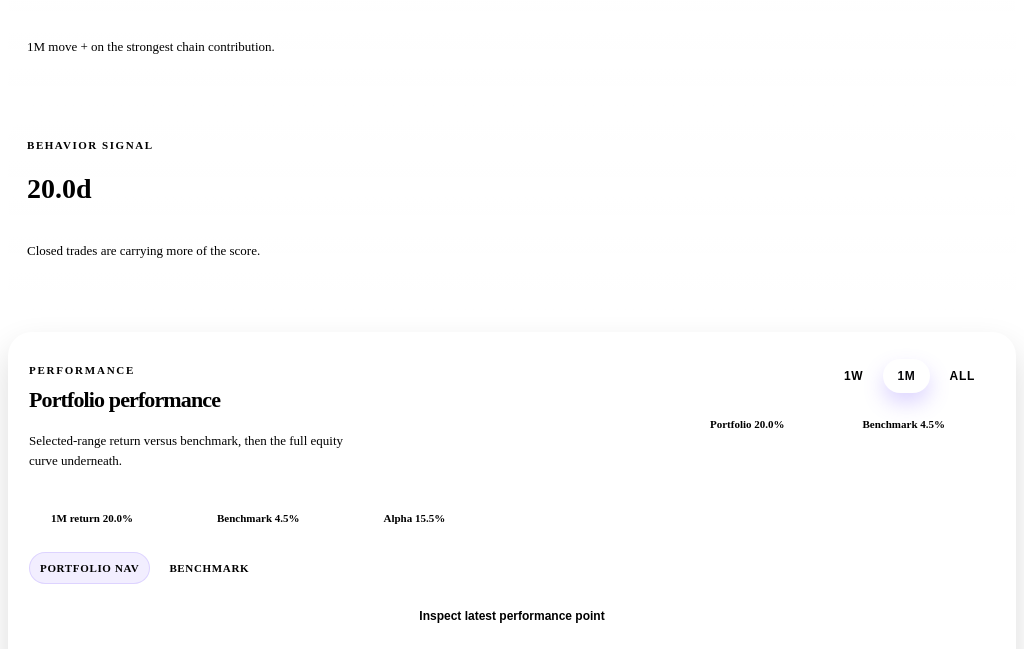
Test: WalletAnalyzerPage › switches the active performance range in the page shell
(page scrolled)
Click the button "1W" at (854, 376), box 830,359 -> 877,393
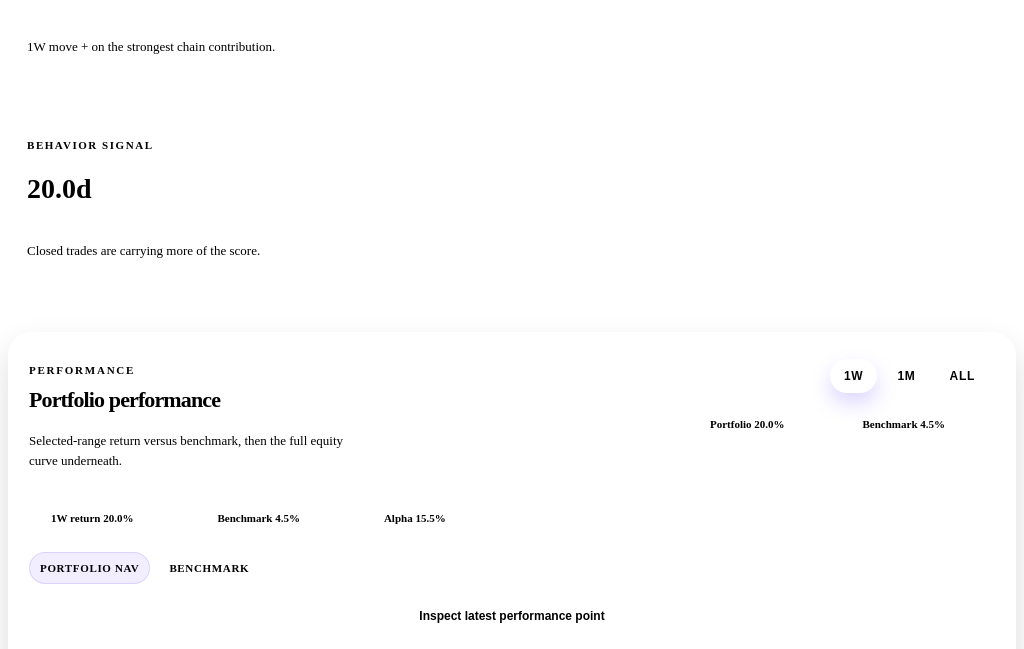
Check: the button "1W return 20.0%" is shown, box 51,502 -> 165,534
Check: the text "1W move + on the strongest chain contribution." is shown, box 27,39 -> 275,54
